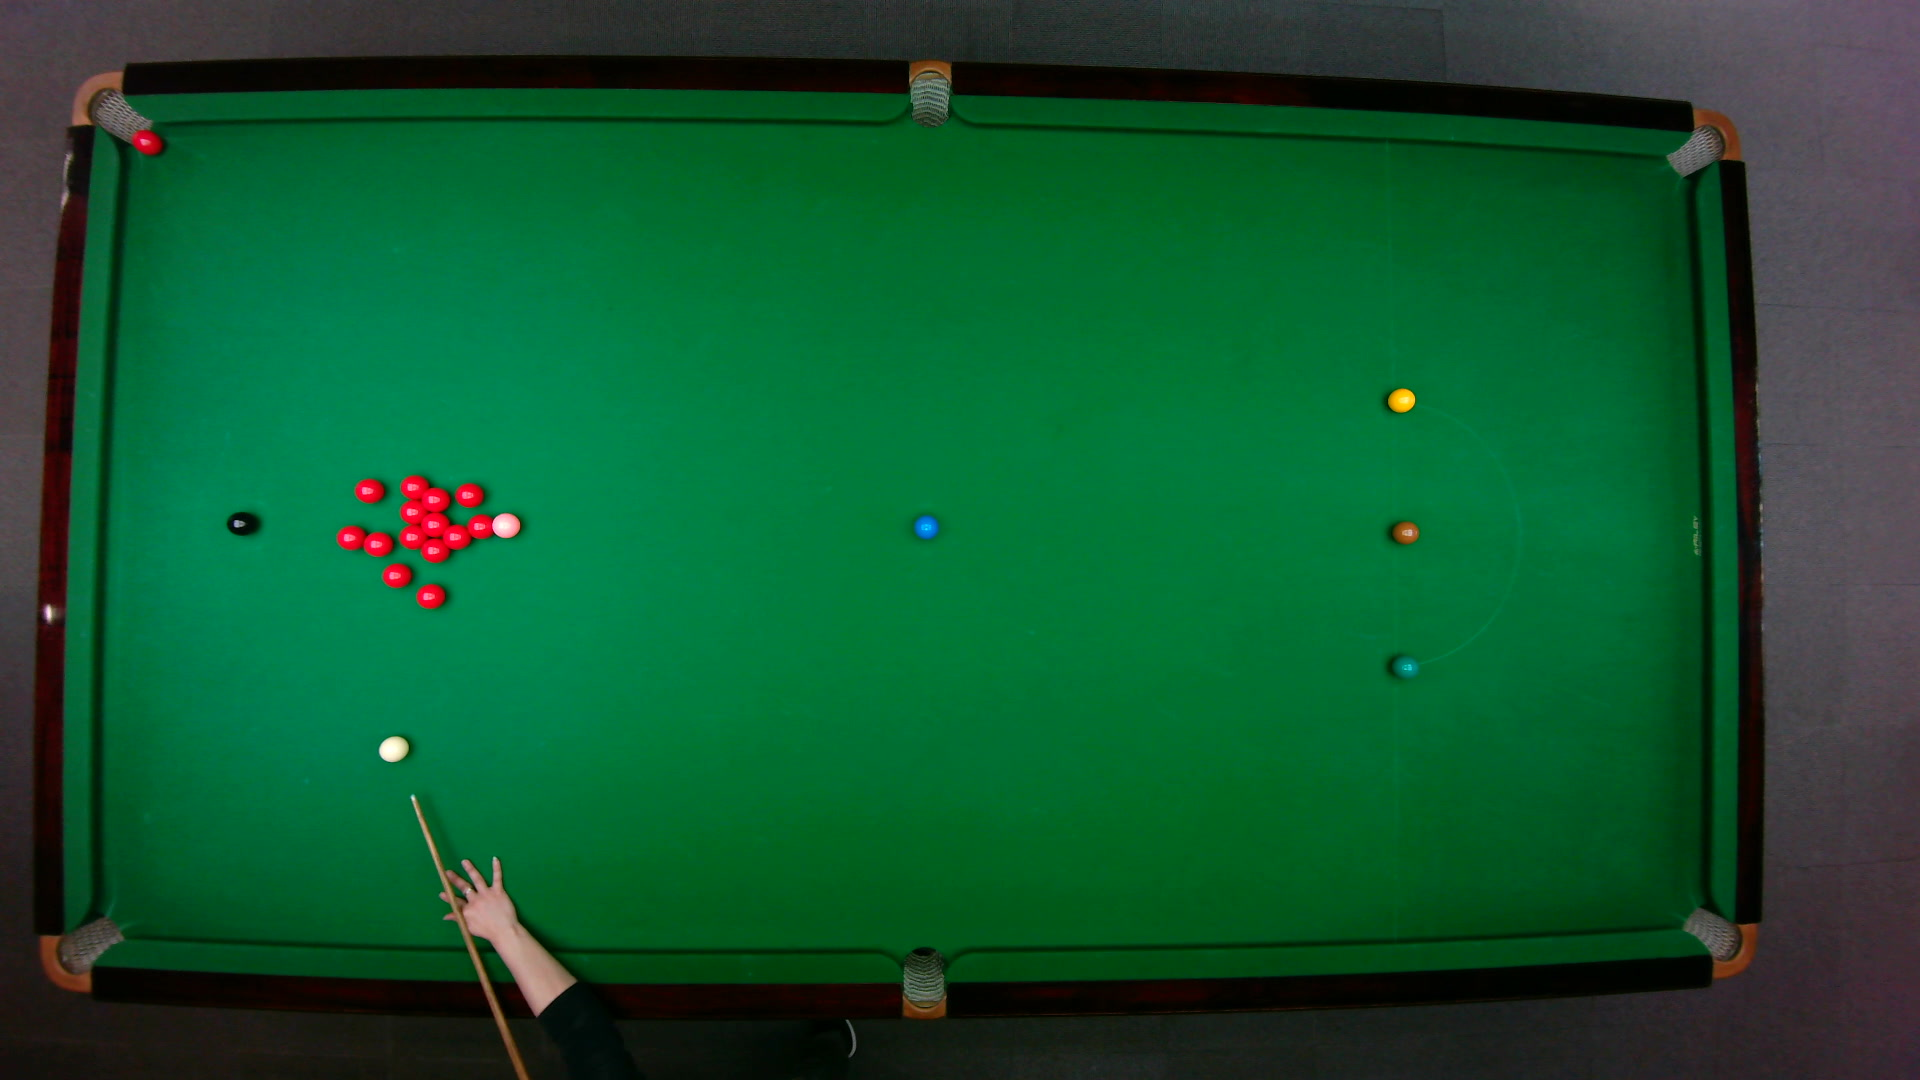bag: (37, 914, 125, 992), (69, 70, 153, 146), (1679, 905, 1756, 978), (1663, 107, 1741, 177), (901, 944, 944, 1021), (909, 57, 949, 128)
black: (224, 510, 257, 535)
blue: (913, 512, 938, 541)
brown: (1390, 520, 1419, 545)
cue: (410, 794, 530, 1079)
green: (1389, 651, 1419, 679)
pink: (489, 510, 522, 539)
red: (131, 127, 164, 156), (360, 529, 394, 556), (440, 522, 472, 550), (414, 582, 446, 609), (380, 560, 411, 588), (352, 476, 385, 502), (419, 484, 450, 512), (454, 480, 485, 506), (398, 472, 430, 498), (419, 537, 450, 563), (334, 524, 365, 549), (465, 512, 492, 539), (397, 524, 426, 549), (419, 512, 448, 535), (398, 500, 423, 522)
white: (376, 733, 410, 762)
yellow: (1385, 386, 1416, 413)
zone: (1389, 400, 1520, 666)
